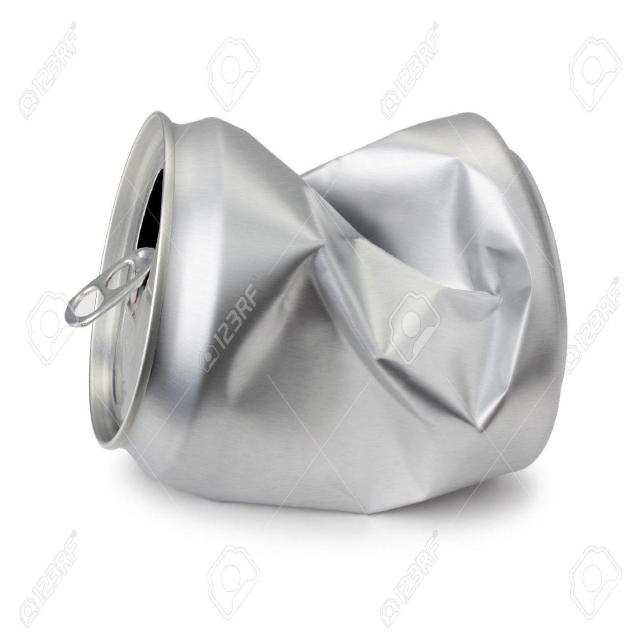metal: (73, 106, 575, 519)
